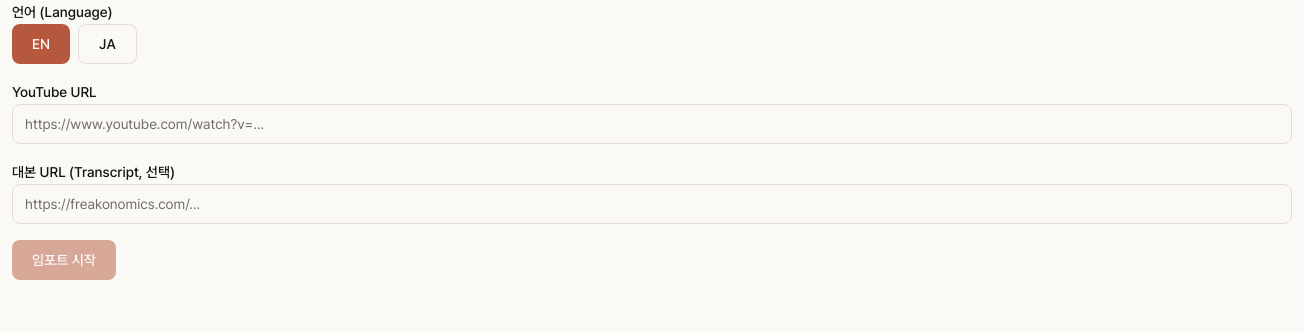
ImportForm › should show "이미 {status} 상태" inline on 409
Type "https://www.youtube.com/watch?v=abc123" into the field labelled "YouTube URL".
click(652, 124); type("https://www.youtube.com/watch?v=abc123")  # box [12, 104, 1292, 144]
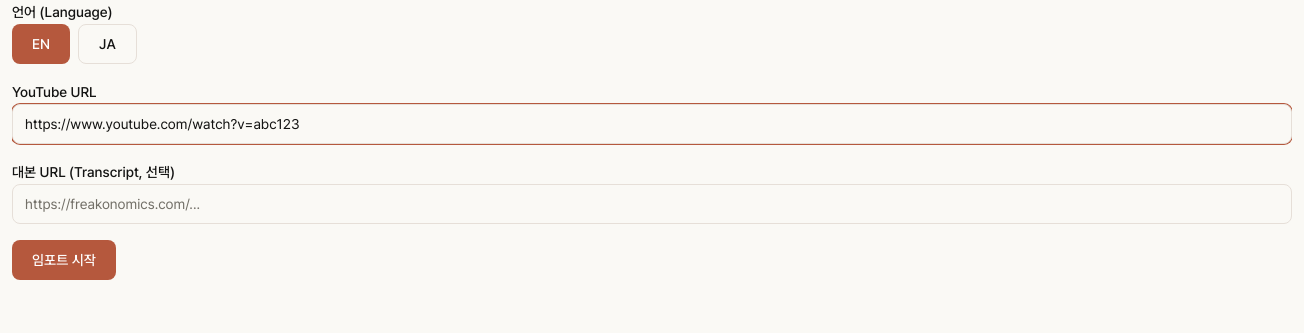
Type "https://freakonomics.com/podcast/x" into the field labelled "대본 URL (Transcript, 선택)".
click(652, 204); type("https://freakonomics.com/podcast/x")  # box [12, 184, 1292, 224]
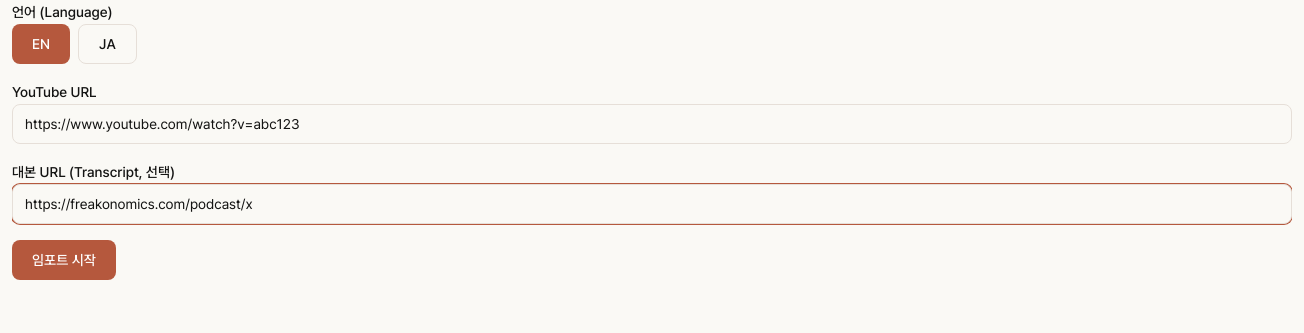
Click the button "임포트 시작".
click(64, 260)  # box [12, 240, 116, 280]
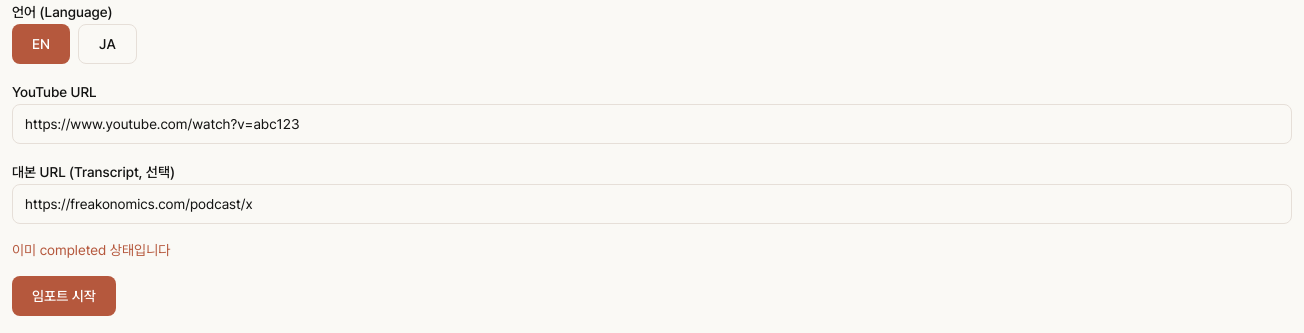
expect the message reads "이미 completed 상태입니다": met, box [12, 242, 170, 258]
